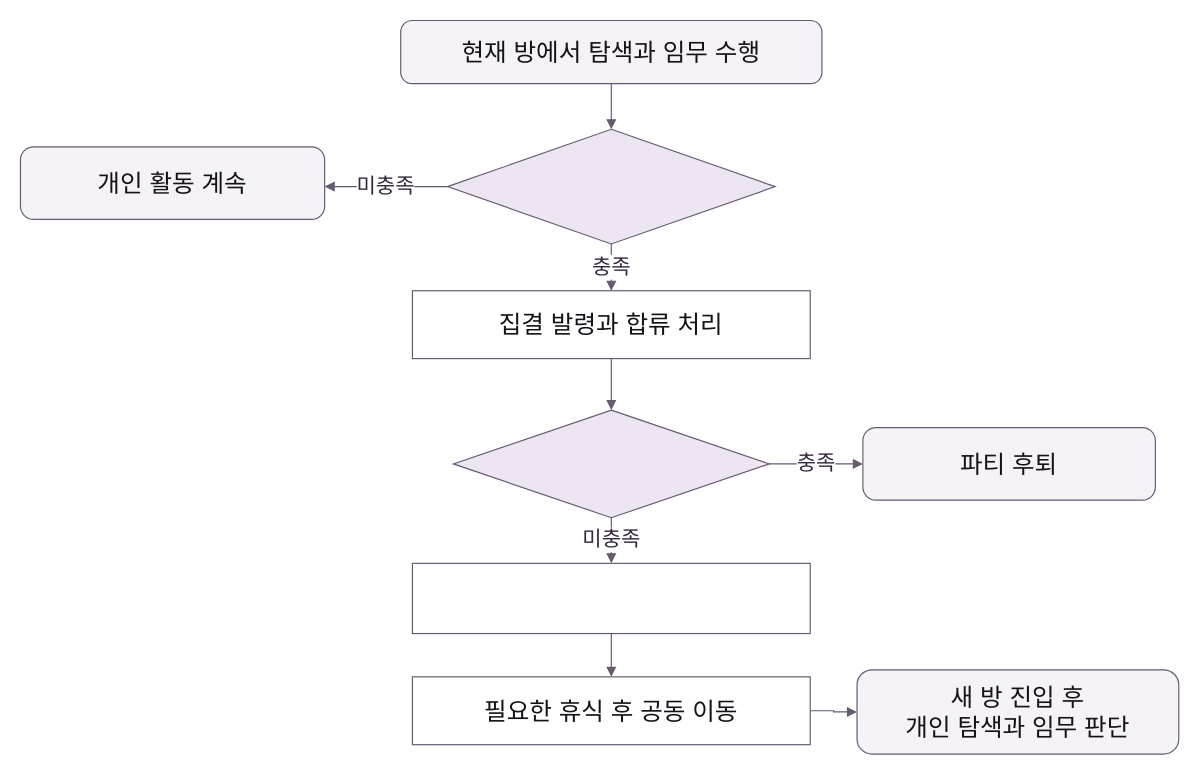
Image size: 1199x775. Some labels were removed from this diagram. The centre of each missing label's shape, as x and y in pixels:
"방 휴식 가능 여부 판단" belongs at point 610,598.
"활동 종료 또는 최초 수량 달성" belongs at point 610,186.
"후퇴 조건 충족 여부" belongs at point 610,463.
